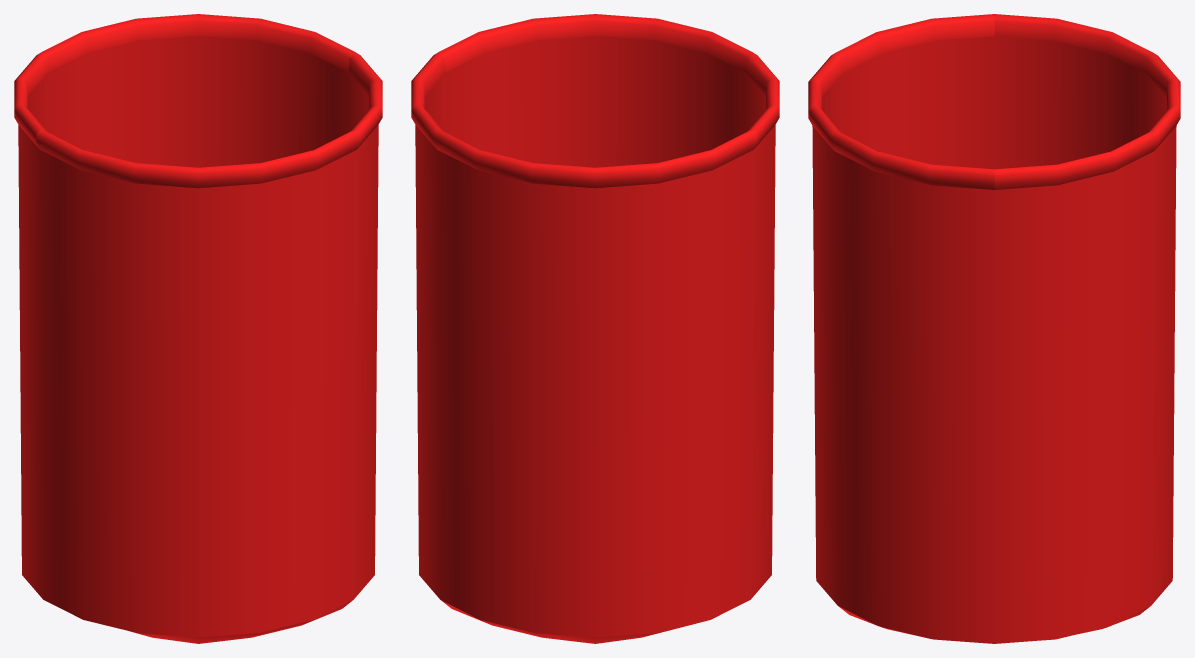
The model's file is SM_Sterilization_Container_16.FBX.
3 renders of one model, left to right at view 1: azimuth 30°, elevation 25°; view 2: azimuth 150°, elevation 25°; view 3: azimuth 270°, elevation 25°, orthographic.
Visible parts, largest first — view 1: Sterilization_Container_16; view 2: Sterilization_Container_16; view 3: Sterilization_Container_16.
Part boxes in pixels (x1,y1,x2,y2): Sterilization_Container_16: (14,14,382,643); Sterilization_Container_16: (411,14,779,643); Sterilization_Container_16: (808,14,1180,643).
Bounding box in the file's own units: 4.7 × 6.72 × 4.63.
